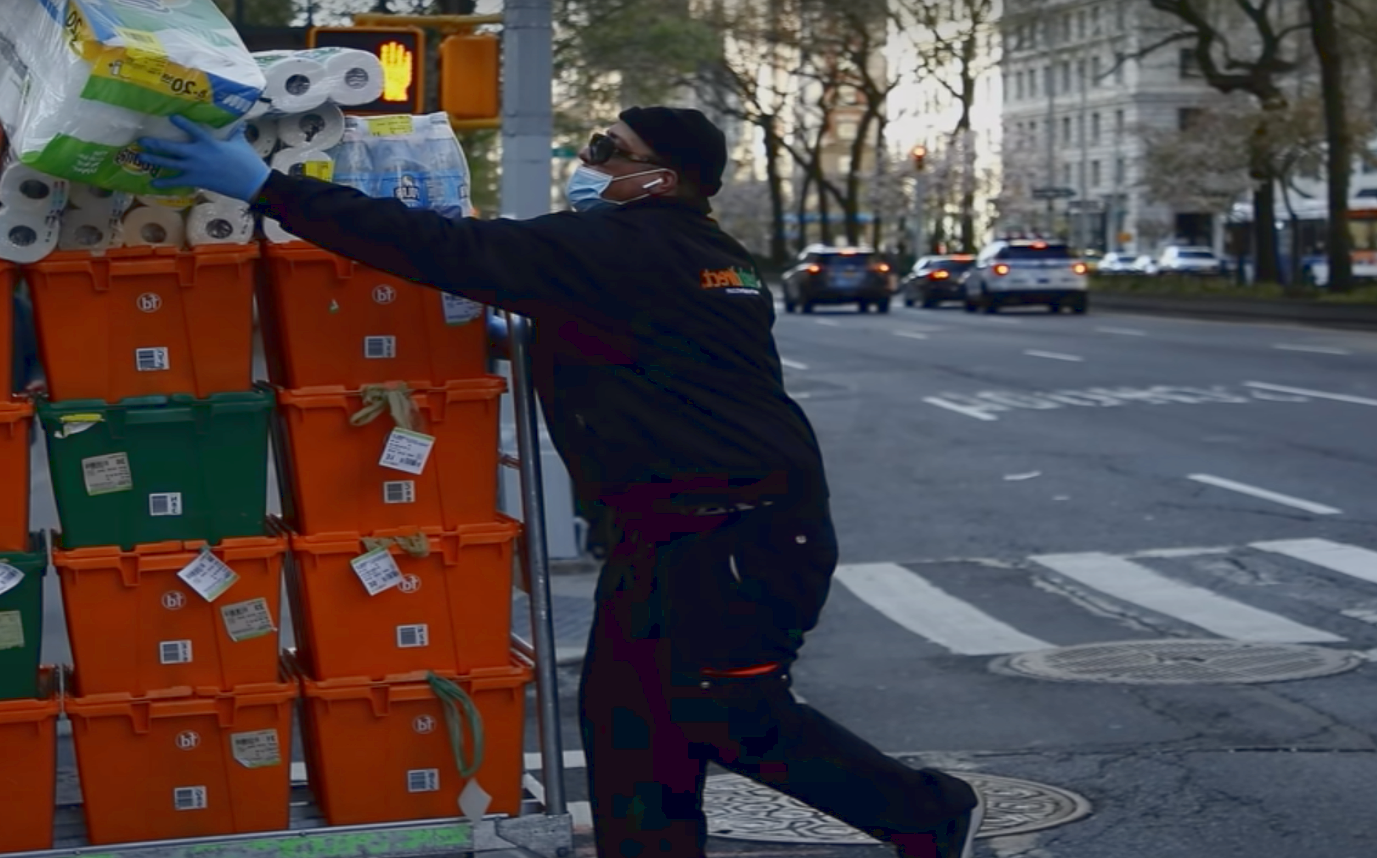mask_weared_incorrect: (563, 104, 724, 217)
